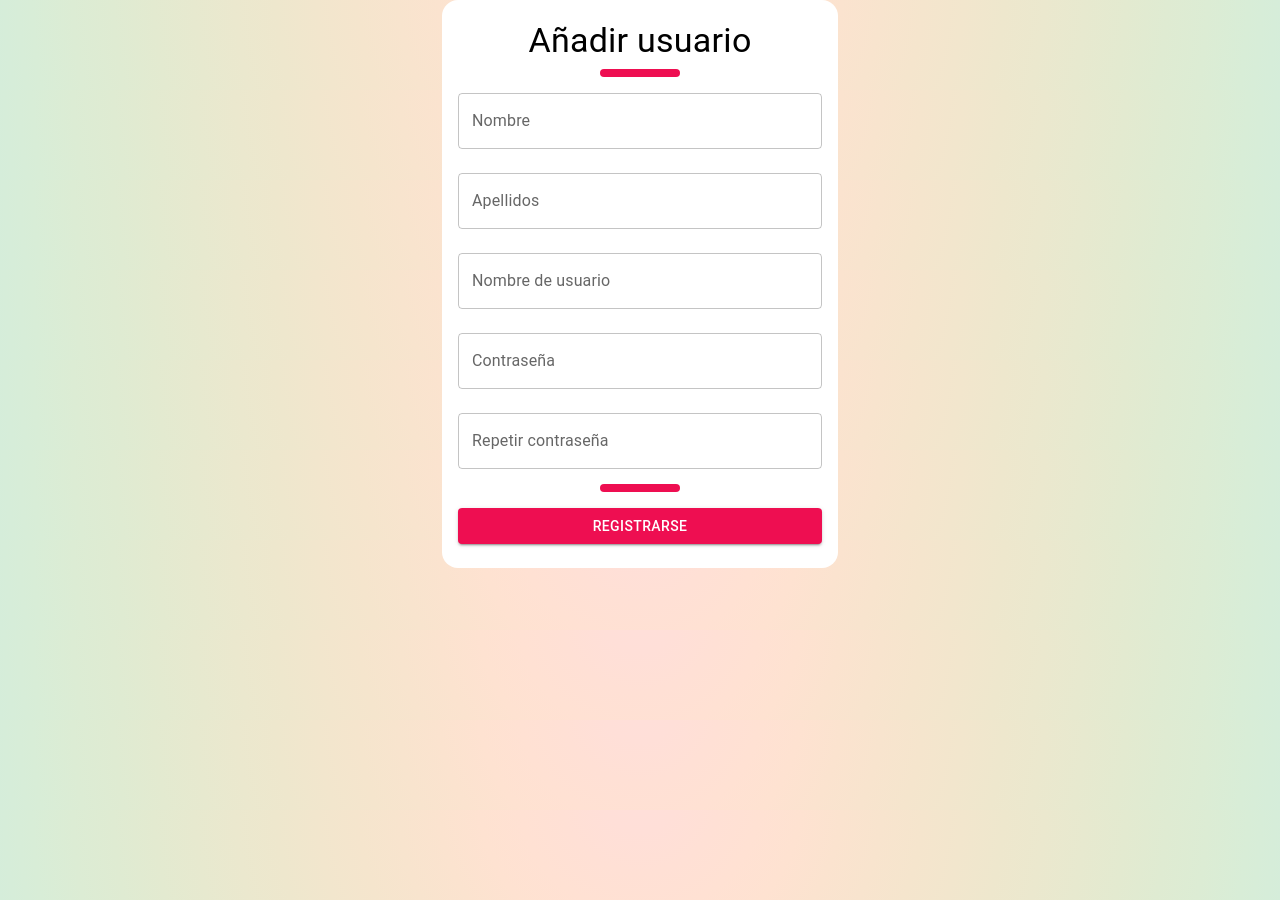
it: AddUser component › should handle error when adding user
Note: Simulate user input
Type "testUser" into the field with id "username" at (640,281), box [458, 253, 822, 309]
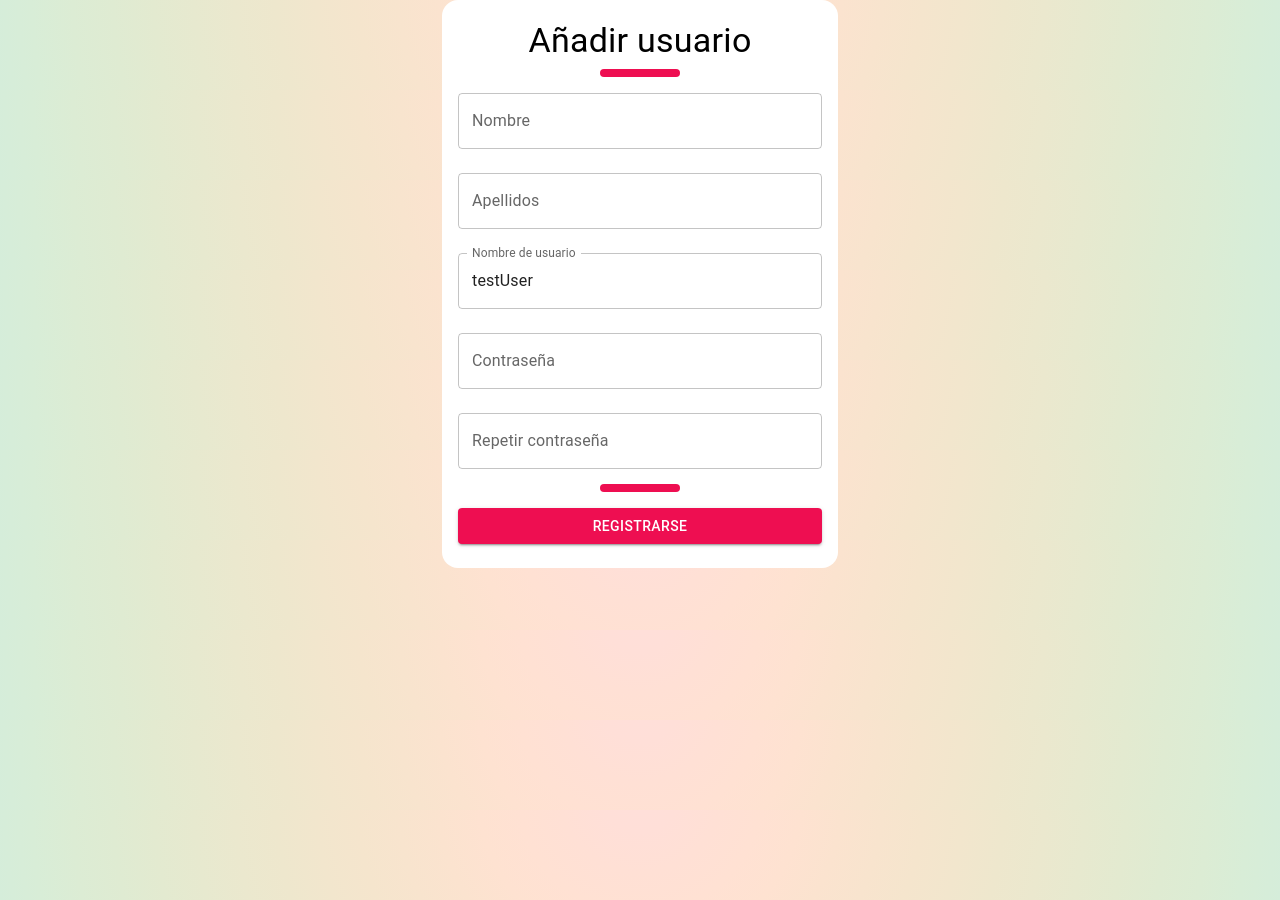
Type "testUser" into the field with id "name" at (640,121), box [458, 93, 822, 149]
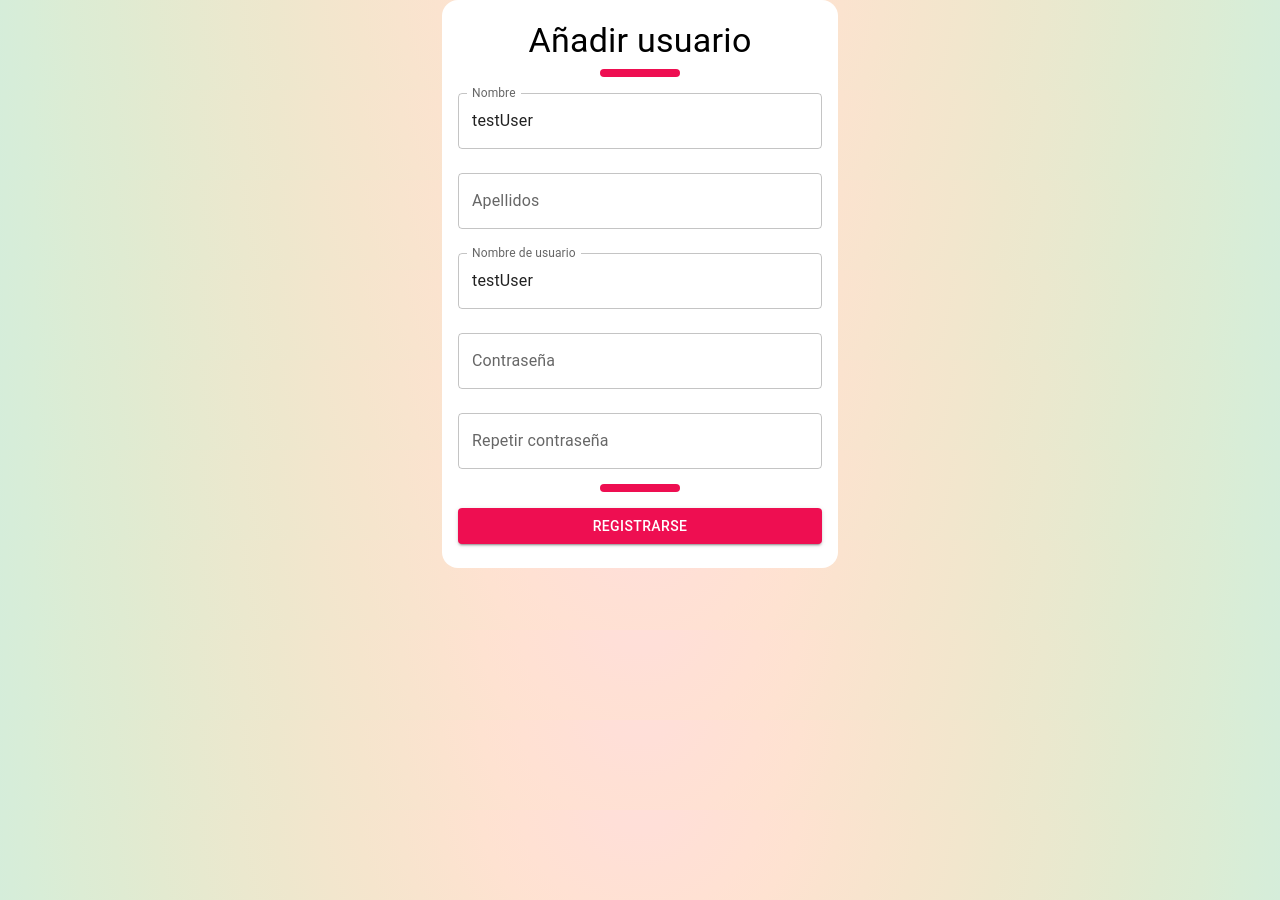
Type "testUser" into the field with id "surname" at (640,201), box [458, 173, 822, 229]
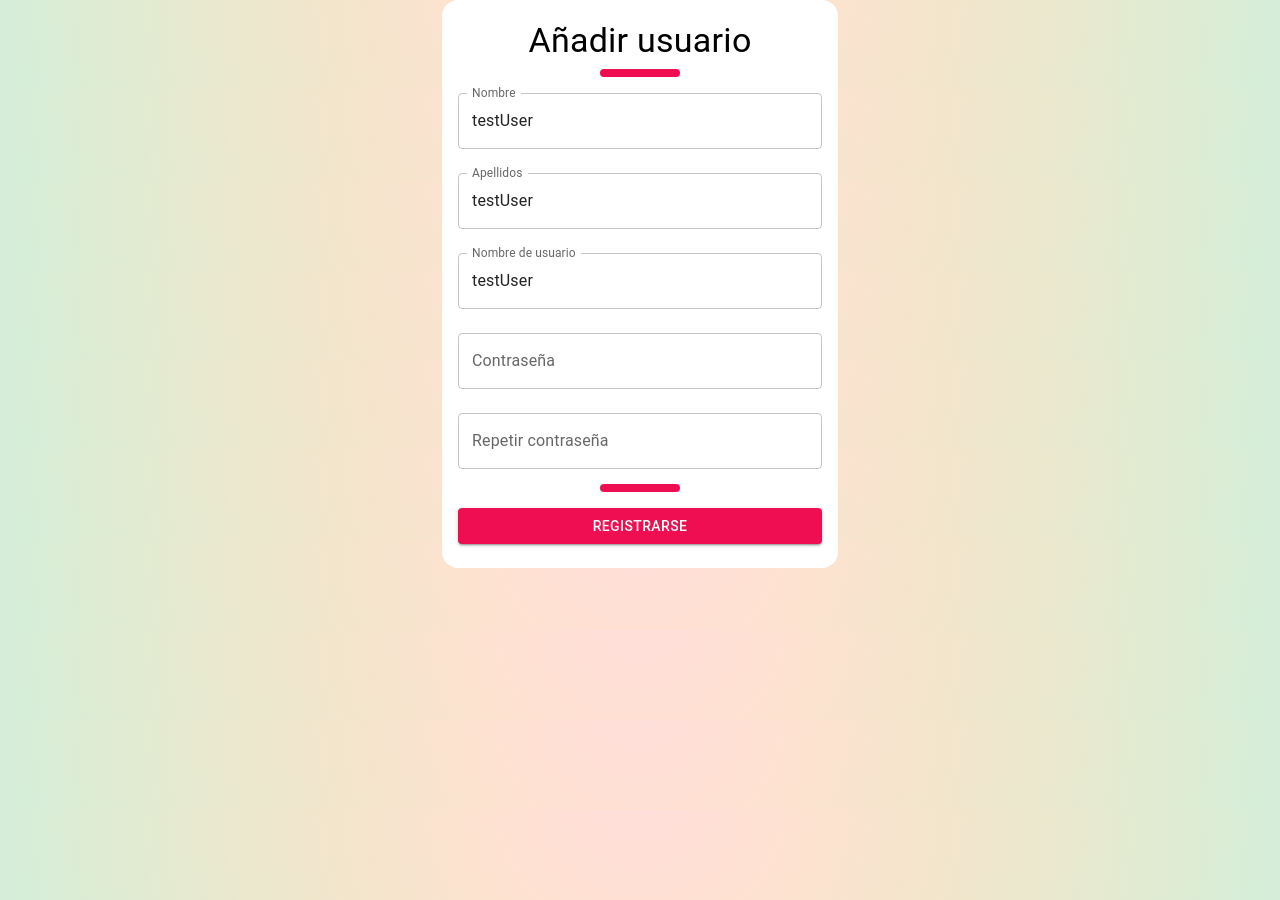
Type "testPassword" into the password field labelled "Contraseña" at (640,361), box [458, 333, 822, 389]
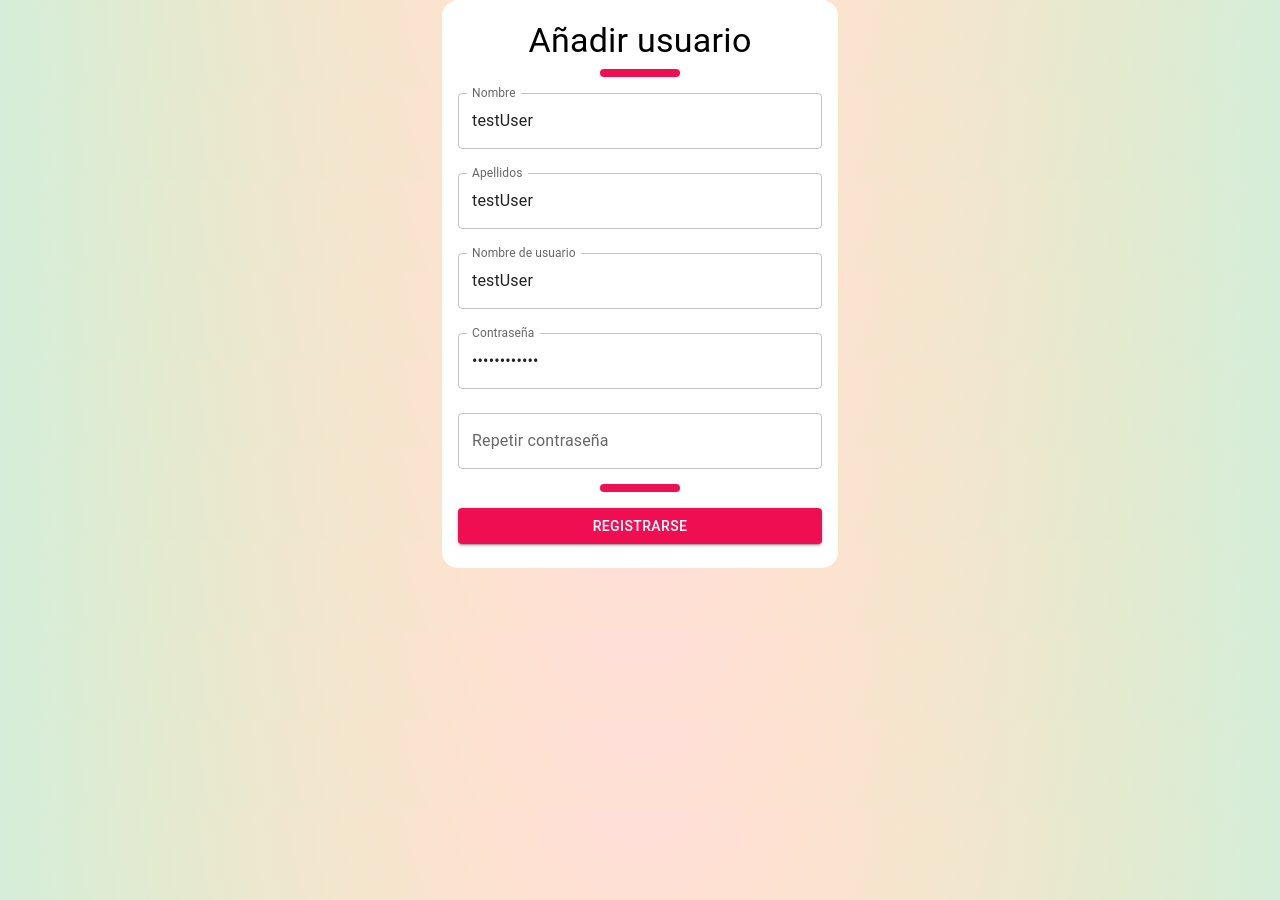
Type "testPassword" into the password field labelled "Repetir contraseña" at (640,441), box [458, 413, 822, 469]
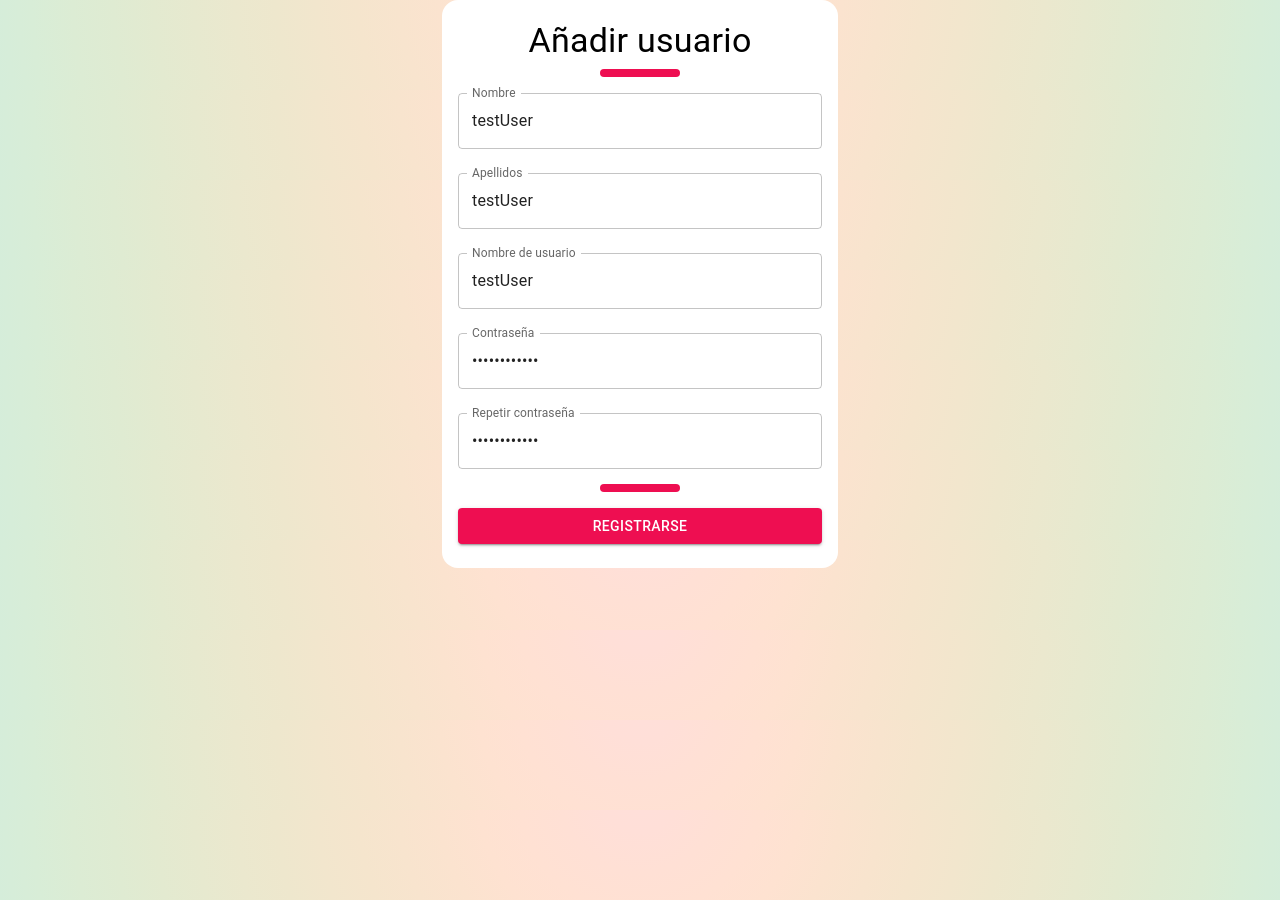
Note: Trigger the add user button click
Click the button "Registrarse" at (640,526), box [458, 508, 822, 544]
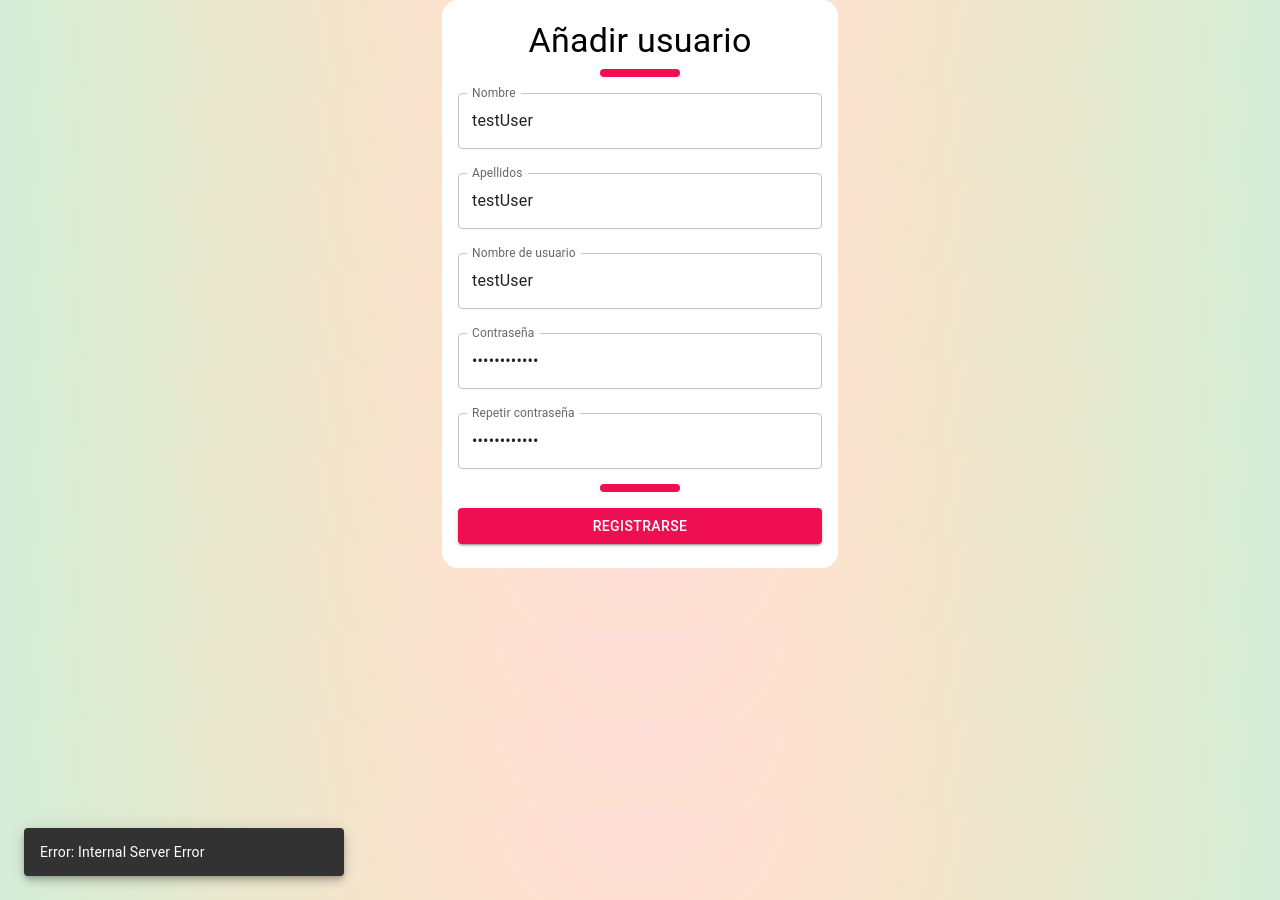
Expected: the text "Error: Internal Server Error" is shown, [40, 844, 205, 860]
